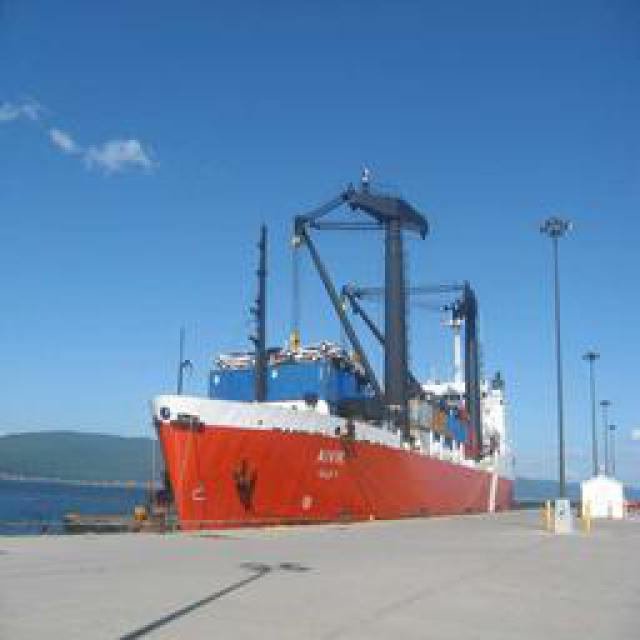Ship: (145, 151, 520, 519)
